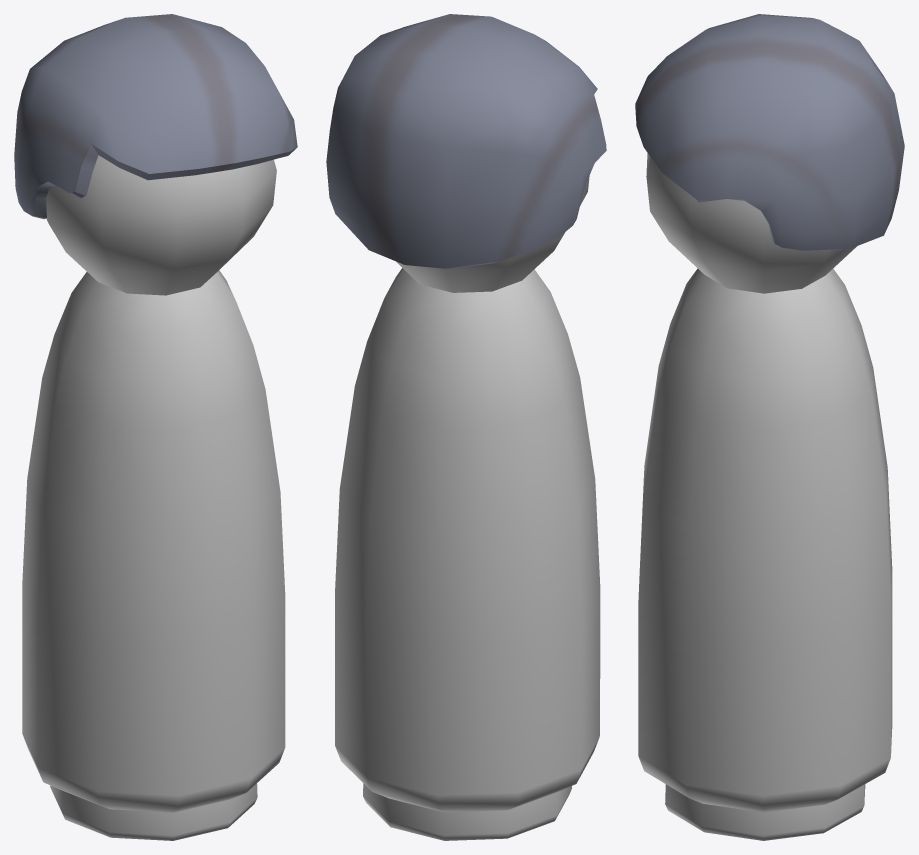
File: Peg_Dress_Short_GreyHair.fbx
3 views of the same model, side by side, from view 1: azimuth 30°, elevation 25°; view 2: azimuth 150°, elevation 25°; view 3: azimuth 270°, elevation 25° (orthographic).
Visible parts, largest first — view 1: Peg_Dress_Short_GreyHair; view 2: Peg_Dress_Short_GreyHair; view 3: Peg_Dress_Short_GreyHair.
Boxes of the visible parts, box(x1,y1,x2,y2) form: Peg_Dress_Short_GreyHair: box(14, 14, 297, 840); Peg_Dress_Short_GreyHair: box(326, 14, 606, 840); Peg_Dress_Short_GreyHair: box(635, 14, 904, 840).
Size of the model in its own units: 1.92 by 5.9 by 1.87.
